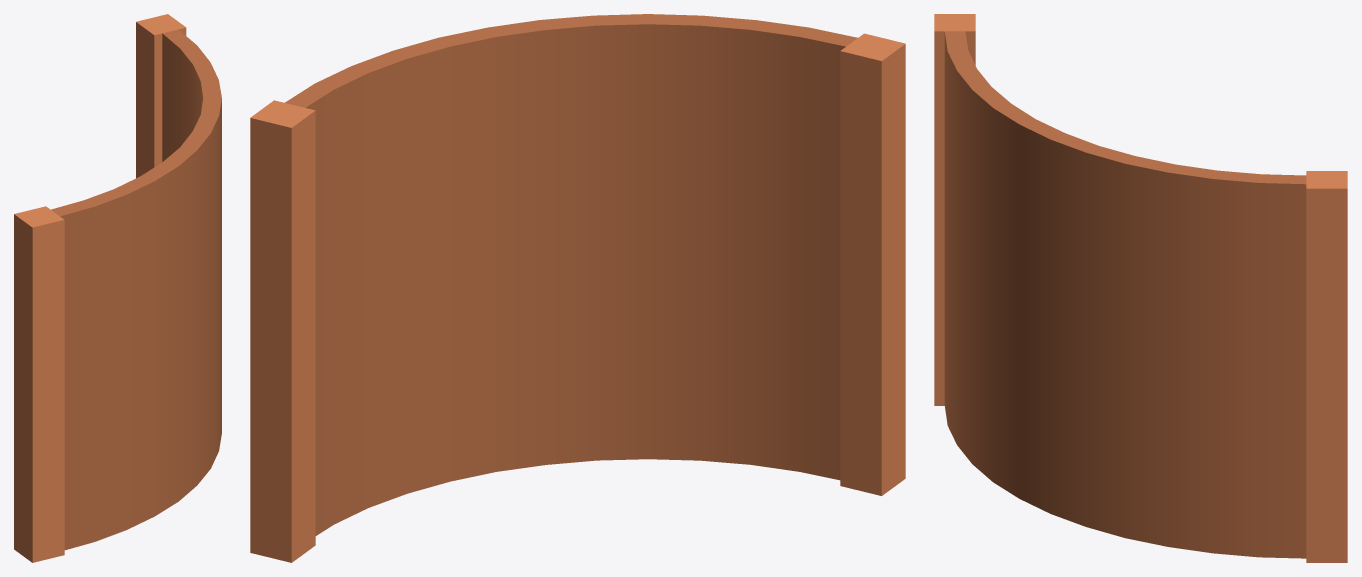
Rendered from wallWoodCurved.obj.
The picture shows the model from 3 angles, left to right: view 1: azimuth 30°, elevation 25°; view 2: azimuth 150°, elevation 25°; view 3: azimuth 270°, elevation 25°; orthographic projection. The views are drawn at different scales.
Visible parts, largest first — view 1: wallWoodCurved; view 2: wallWoodCurved; view 3: wallWoodCurved.
Boxes of the visible parts, x1,y1,x2,y2 form: wallWoodCurved: (14, 14, 221, 562); wallWoodCurved: (250, 14, 905, 562); wallWoodCurved: (934, 14, 1347, 562).
Bounding box in the file's own units: 1 × 1 × 1.
